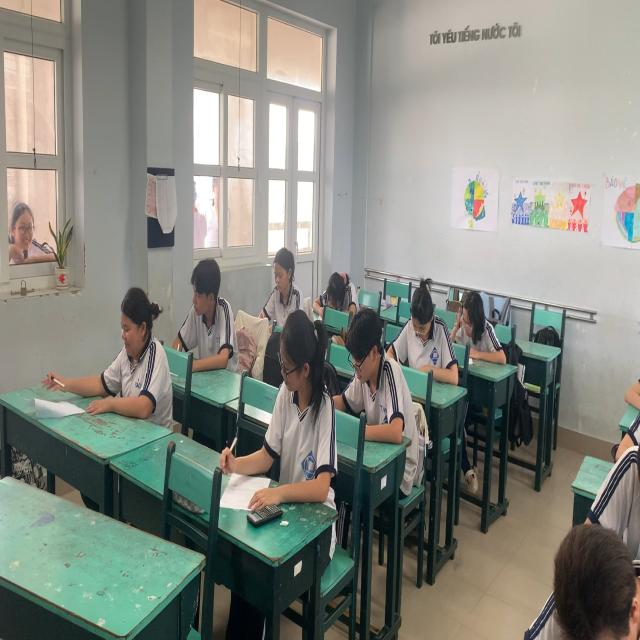not_cheating: (265, 301, 331, 503), (545, 504, 638, 640), (338, 300, 408, 440), (109, 280, 164, 426), (174, 252, 235, 373), (399, 267, 454, 386), (262, 241, 305, 328), (459, 280, 495, 370), (316, 241, 356, 316)
